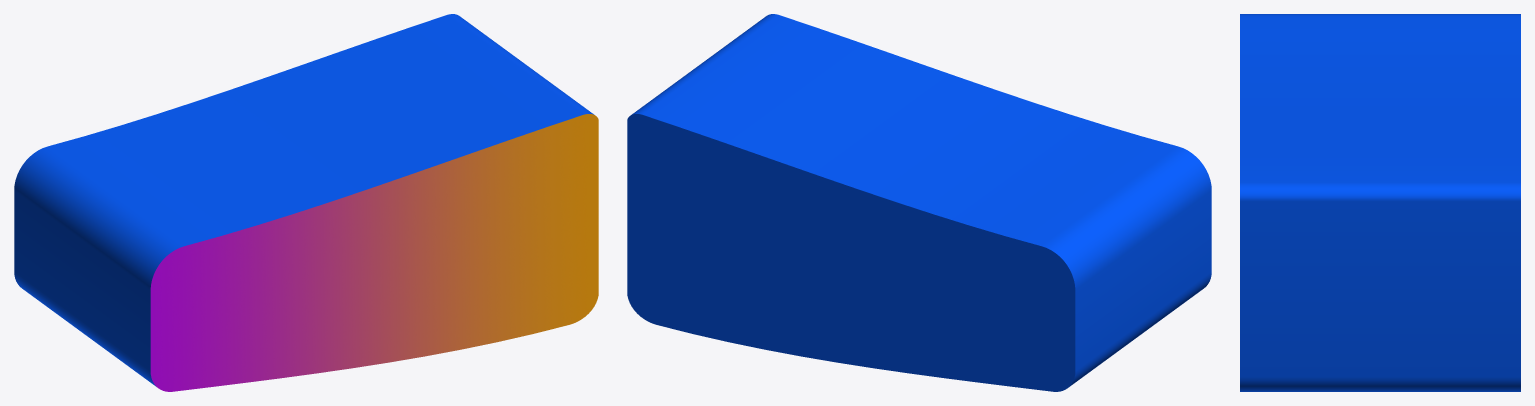
The model's file is Minus.FBX.
The picture shows the model from 3 angles, left to right: view 1: azimuth 30°, elevation 25°; view 2: azimuth 150°, elevation 25°; view 3: azimuth 270°, elevation 25°; orthographic projection. The views are drawn at different scales.
Visible parts, largest first — view 1: Minus; view 2: Minus; view 3: Minus.
Boxes of the visible parts, x1=… form: Minus: x1=14, y1=14, x2=598, y2=391; Minus: x1=627, y1=14, x2=1211, y2=391; Minus: x1=1240, y1=14, x2=1520, y2=391.
Size of the model in its own units: 37.71 by 16.64 by 19.88.
Materials: 2 (1 with a texture image).
